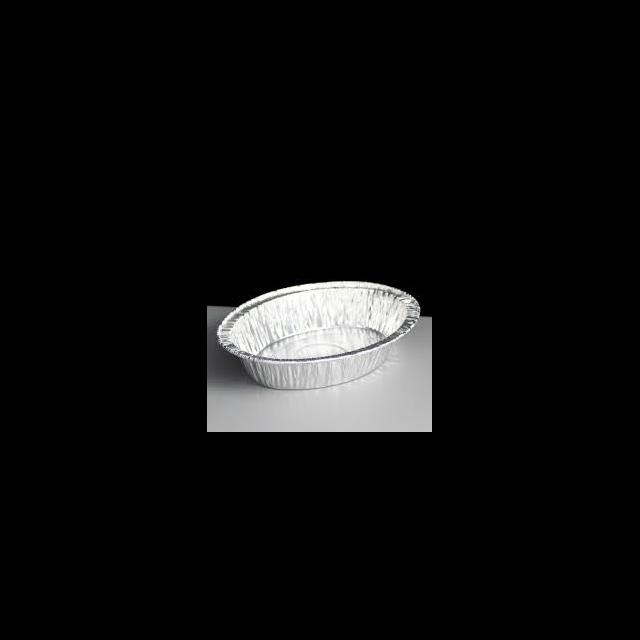metal: (216, 280, 420, 390)
